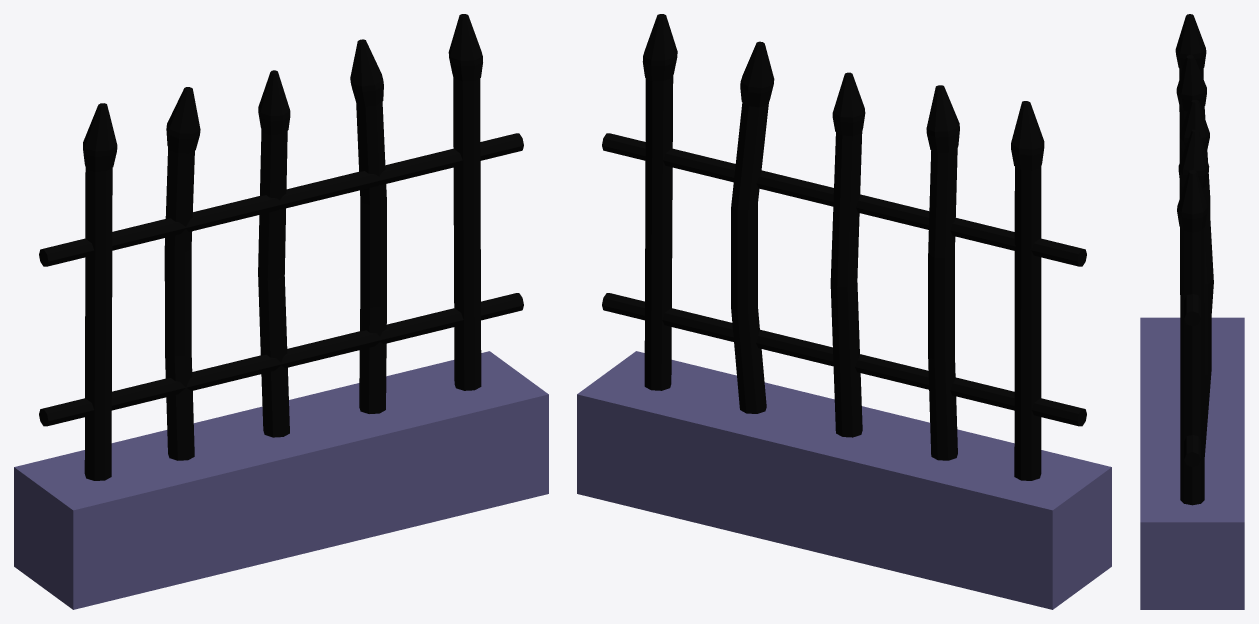
The model's file is Fence_Metal_02.fbx.
3 views of the same model, side by side, from view 1: azimuth 30°, elevation 25°; view 2: azimuth 150°, elevation 25°; view 3: azimuth 270°, elevation 25° (orthographic). The views are drawn at different scales.
Parts seen in each view (by area): view 1: Fence_02; view 2: Fence_02; view 3: Fence_02.
Part boxes in pixels (x1,y1,x2,y2): Fence_02: (14, 14, 548, 609); Fence_02: (577, 14, 1111, 609); Fence_02: (1140, 14, 1244, 609).
Bounding box in the file's own units: 200 × 189 × 43.11.
